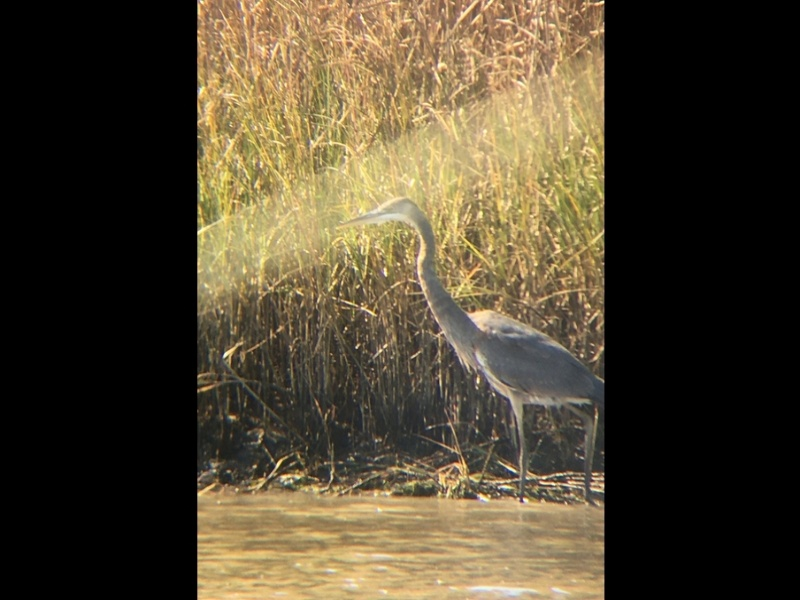heron: (336, 192, 600, 480)
